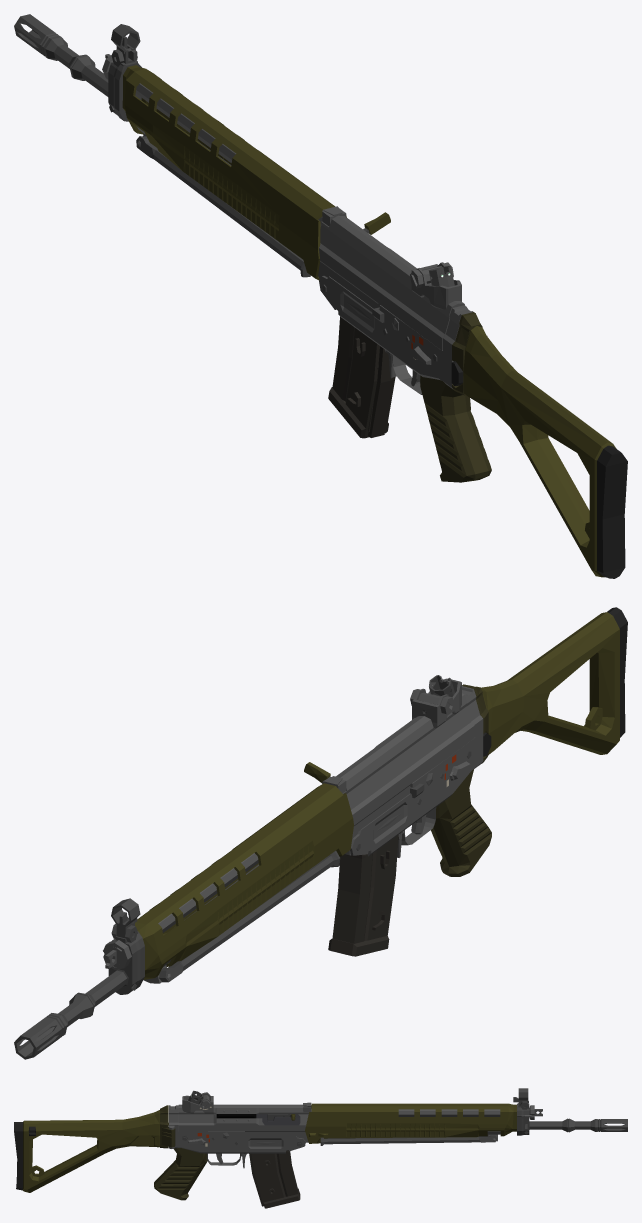
The model's file is Grau 556.glb.
3 renders of one model, top to bottom at view 1: azimuth 30°, elevation 25°; view 2: azimuth 150°, elevation 25°; view 3: azimuth 270°, elevation 25°, orthographic. The views are drawn at different scales.
Visible parts, largest first — view 1: main_9, stock_8, magazine_20rnd_5; view 2: main_9, stock_8, magazine_20rnd_5; view 3: main_9, stock_8, magazine_20rnd_5, Bolt_group_2.
Boxes of the visible parts, x1,y1,x2,y2 form: main_9: (14,14,491,482); stock_8: (451,312,627,578); magazine_20rnd_5: (328,316,395,438); main_9: (14,678,491,1059); stock_8: (462,607,627,763); magazine_20rnd_5: (328,835,398,956); main_9: (154,1088,627,1200); stock_8: (14,1105,175,1192); magazine_20rnd_5: (249,1150,300,1208); Bolt_group_2: (256,1114,300,1125).
Size of the model in its own units: 0.0627 by 0.2094 by 0.9939.
